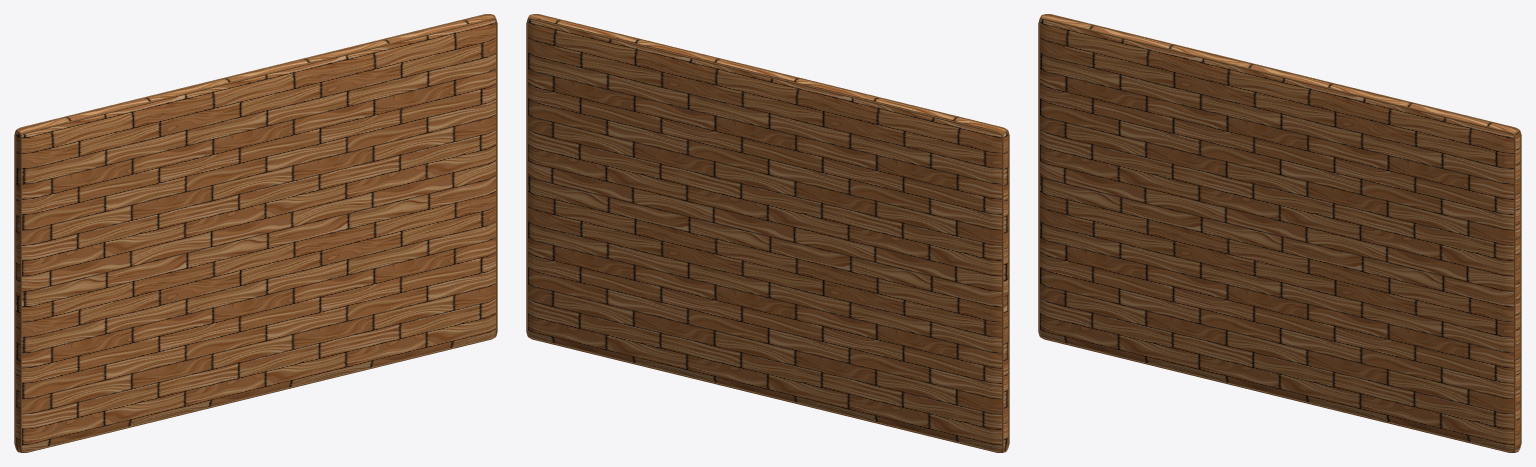
The model's file is SM_FoamWall_2x3.fbx.
3 views of the same model, side by side, from view 1: azimuth 30°, elevation 25°; view 2: azimuth 150°, elevation 25°; view 3: azimuth 330°, elevation 25° (orthographic).
Visible parts, largest first — view 1: SM_SoftFoam_Wall_10_2x3; view 2: SM_SoftFoam_Wall_10_2x3; view 3: SM_SoftFoam_Wall_10_2x3.
Part boxes in pixels (x1=…): SM_SoftFoam_Wall_10_2x3: x1=14, y1=14, x2=497, y2=452; SM_SoftFoam_Wall_10_2x3: x1=526, y1=14, x2=1009, y2=452; SM_SoftFoam_Wall_10_2x3: x1=1038, y1=14, x2=1521, y2=452.
Bounding box in the file's own units: 284 × 183 × 10.
